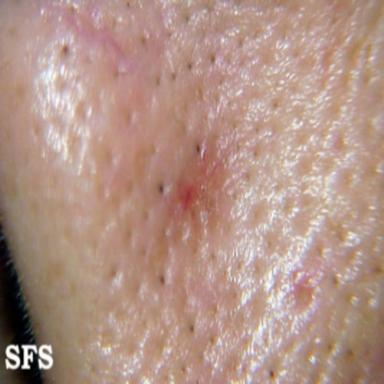basal-cell-carcinoma: (169, 141, 217, 217)
